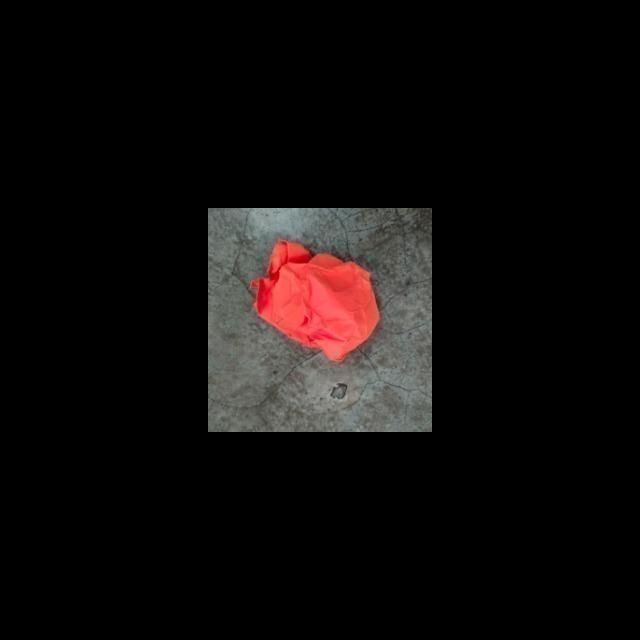paper: (240, 221, 385, 380)
